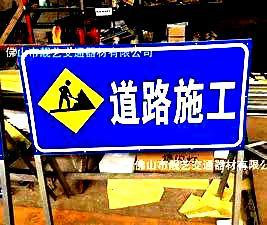sign: (25, 42, 247, 154)
